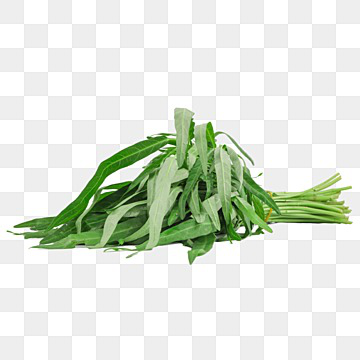Kangkung: (10, 83, 360, 274)
